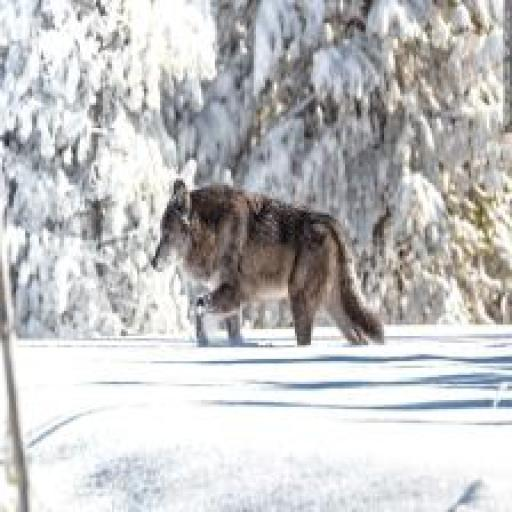wolf: (151, 162, 387, 389)
